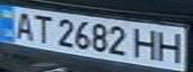2: (106, 23, 133, 57), (51, 16, 75, 48)
6: (72, 19, 93, 52)
8: (90, 20, 112, 54)
A: (6, 9, 39, 40)
H: (130, 26, 163, 61), (154, 29, 187, 64)
T: (30, 12, 57, 45)
